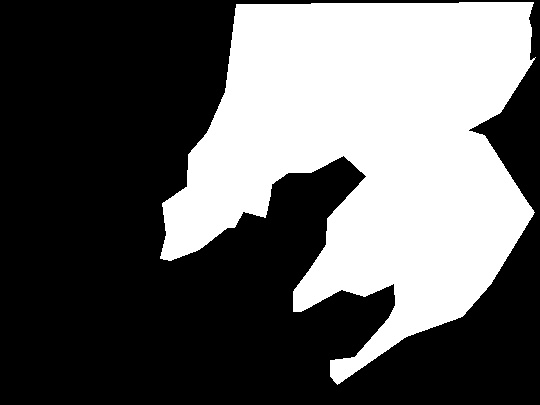fire: (153, 119, 300, 270), (323, 164, 439, 276)
